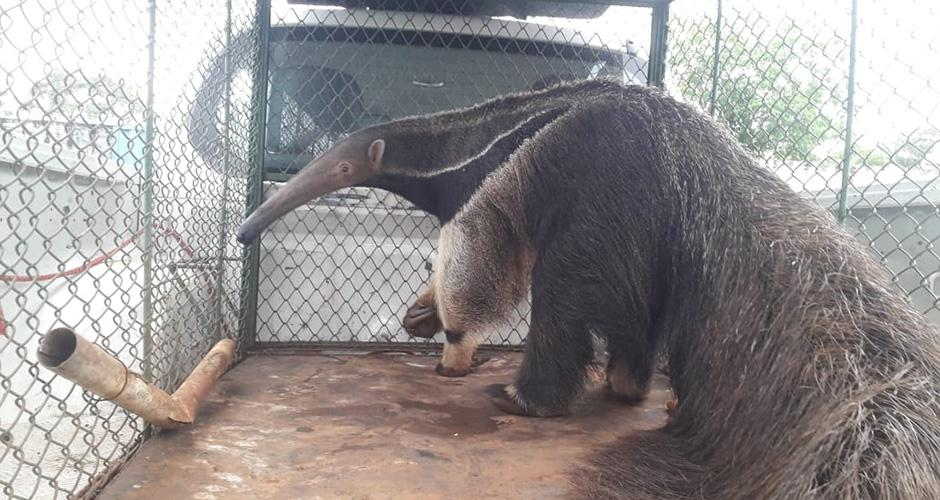TamanduaBandeira: (233, 72, 931, 492)
